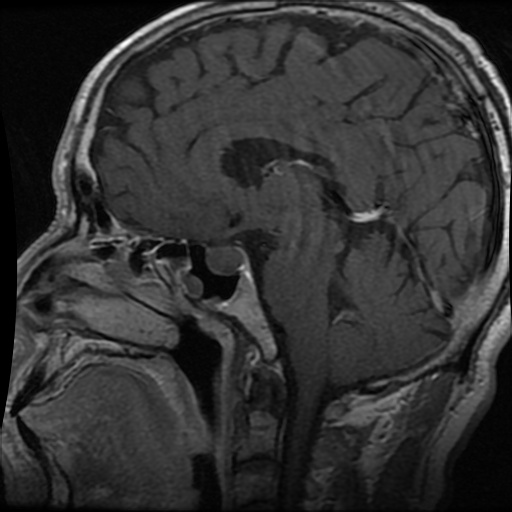pituitary: (206, 244, 243, 275)
